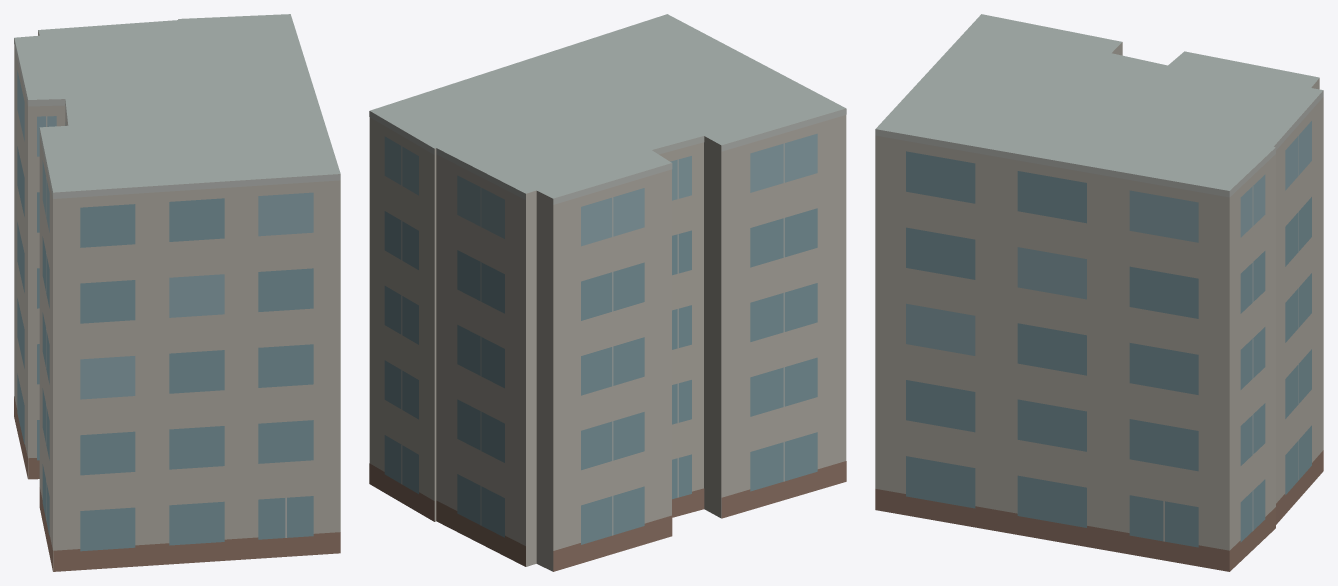
The model's file is survey-upis-32772362.glb.
3 views of the same model, side by side, from view 1: azimuth 30°, elevation 25°; view 2: azimuth 150°, elevation 25°; view 3: azimuth 270°, elevation 25° (orthographic). The views are drawn at different scales.
Parts seen in each view (by area): view 1: survey-upis-32772362.tmp; view 2: survey-upis-32772362.tmp; view 3: survey-upis-32772362.tmp.
Boxes of the visible parts, x1,y1,x2,y2 form: survey-upis-32772362.tmp: (14,14,340,571); survey-upis-32772362.tmp: (369,14,846,571); survey-upis-32772362.tmp: (875,14,1323,571).
Size of the model in its own units: 14.31 by 14.35 by 15.31.
